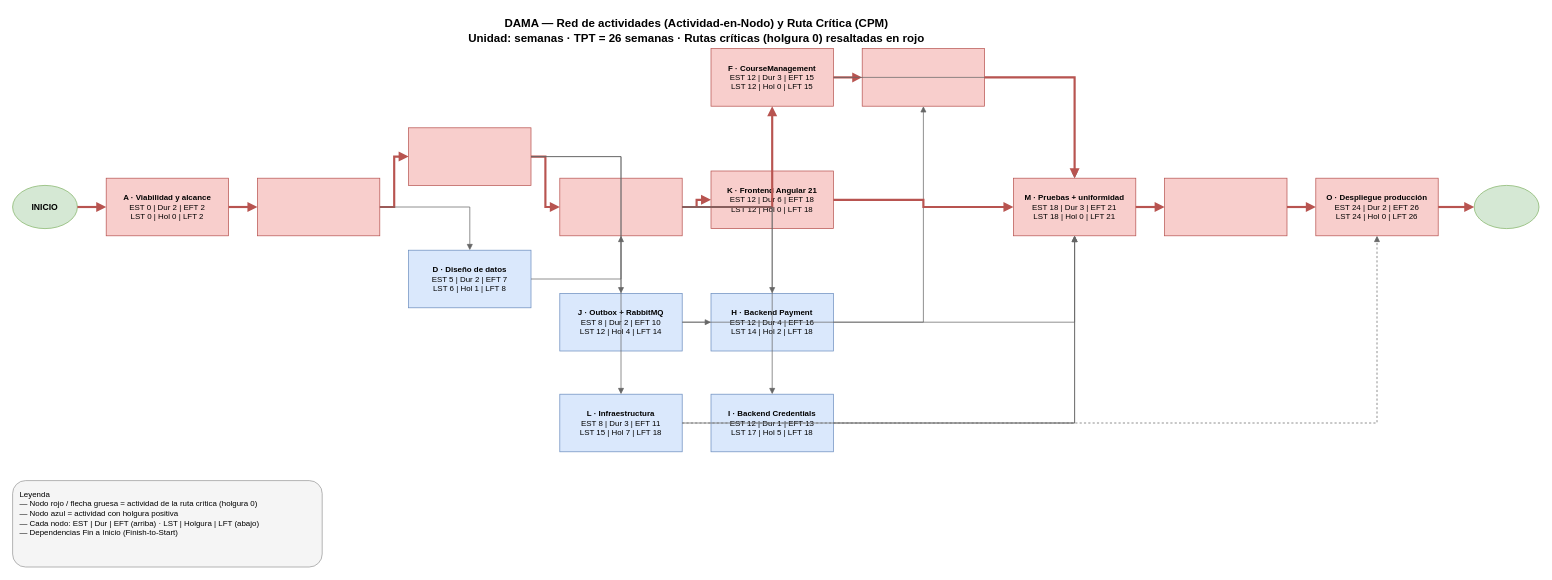
The diagram is 1552 pixels wide and 580 high, and some of its shapes have lost their labels. Each missing label, with the box of its shape:
B · Requisitos (SRS) + stack EST 2 | Dur 3 | EFT 5 LST 2 | Hol 0 | LFT 5: (257, 177, 380, 236)
C · Arquitectura + gRPC EST 5 | Dur 3 | EFT 8 LST 5 | Hol 0 | LFT 8: (408, 127, 531, 185)
E · Backend Auth EST 8 | Dur 4 | EFT 12 LST 8 | Hol 0 | LFT 12: (559, 177, 682, 236)
FIN TPT = 26: (1473, 185, 1539, 229)
G · Backend Attendance EST 15 | Dur 3 | EFT 18 LST 15 | Hol 0 | LFT 18: (861, 48, 985, 106)
N · OWASP + ISO + docs EST 21 | Dur 3 | EFT 24 LST 21 | Hol 0 | LFT 24: (1164, 177, 1287, 236)
